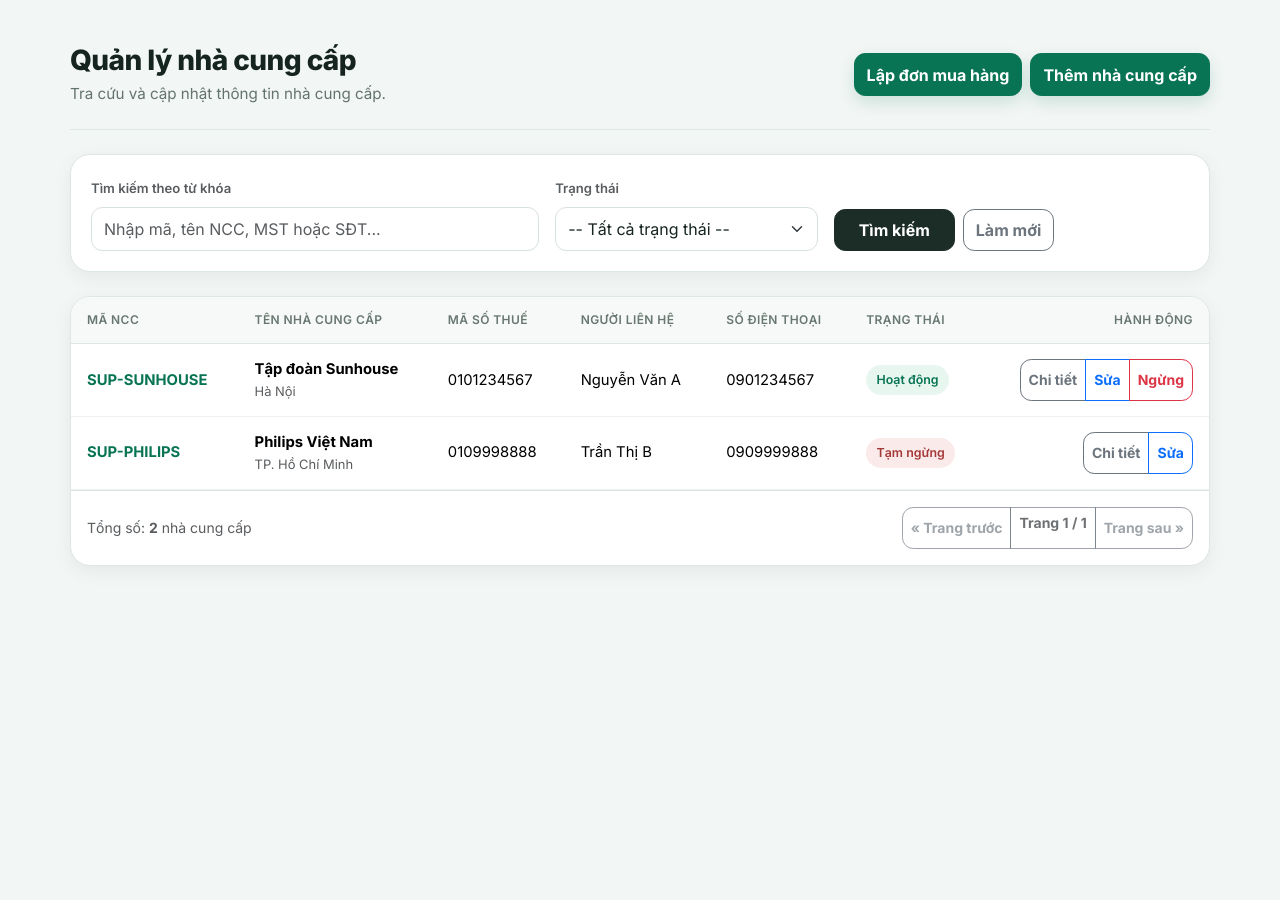
SuppliersPage (UC-27 Manage Suppliers) › opens registration modal when clicking "Thêm nhà cung cấp"
Check: the text "SUP-SUNHOUSE" is shown, box 71,344 -> 239,416
What coordinates should you click on to do the following:
click the button "Thêm nhà cung cấp"
I would click on:
 (1120, 75)
Its box is 1030,53 -> 1210,96.
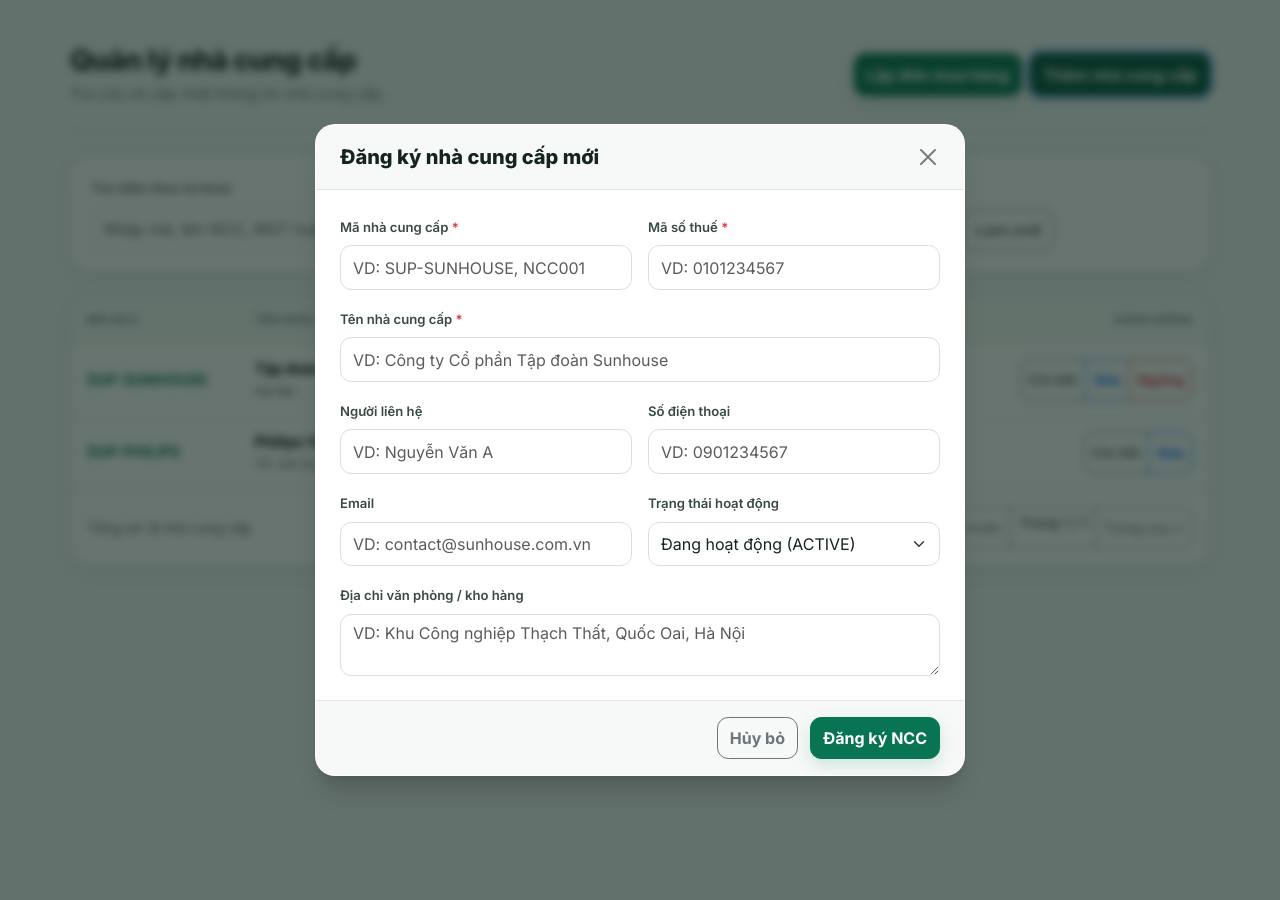
Check: the heading "Đăng ký nhà cung cấp mới" is shown, box 340,145 -> 599,169
Check: the field labelled "Mã nhà cung cấp *" is shown, box 340,245 -> 632,290
Check: the field labelled "Mã số thuế *" is shown, box 648,245 -> 940,290
